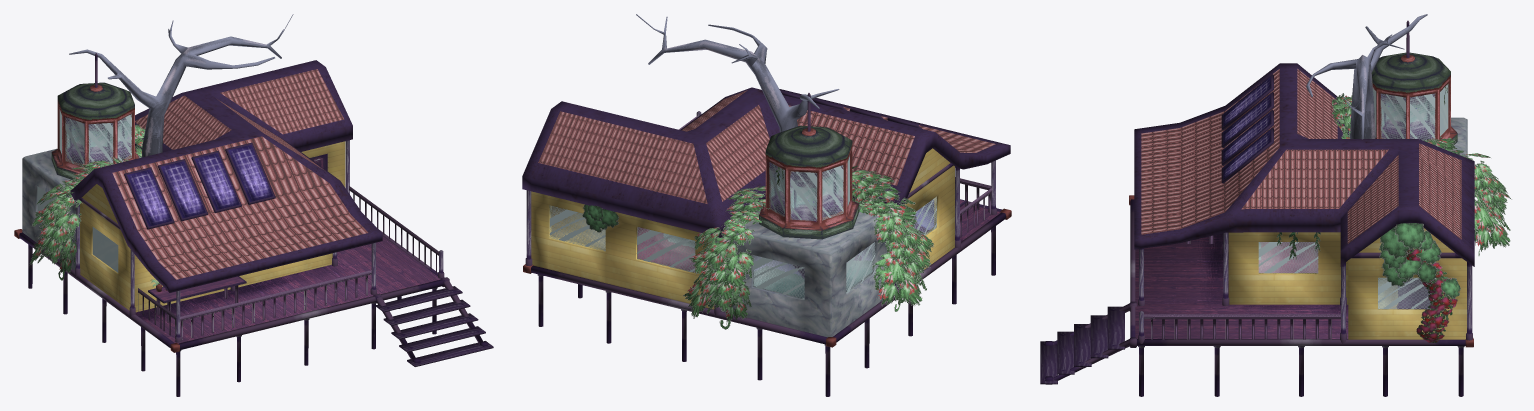
Rendered from Home 1.fbx.
The picture shows the model from 3 angles, left to right: view 1: azimuth 30°, elevation 25°; view 2: azimuth 150°, elevation 25°; view 3: azimuth 270°, elevation 25°; orthographic projection. The views are drawn at different scales.
Parts seen in each view (by area): view 1: House, HouseGlass; view 2: House, HouseGlass; view 3: House, HouseGlass.
Part boxes in pixels (x1,y1,x2,y2): House: (14, 14, 493, 396); HouseGlass: (37, 109, 131, 272); House: (522, 14, 1011, 396); HouseGlass: (549, 156, 936, 299); House: (1040, 14, 1511, 396); HouseGlass: (1258, 84, 1448, 309).
Bounding box in the file's own units: 244 × 187 × 285.
